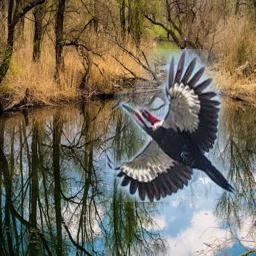Woodpecker: (106, 49, 236, 202)
